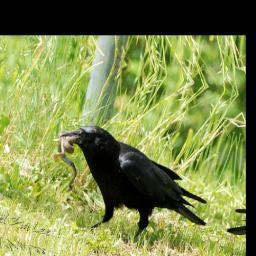Crow: (40, 117, 219, 256)
